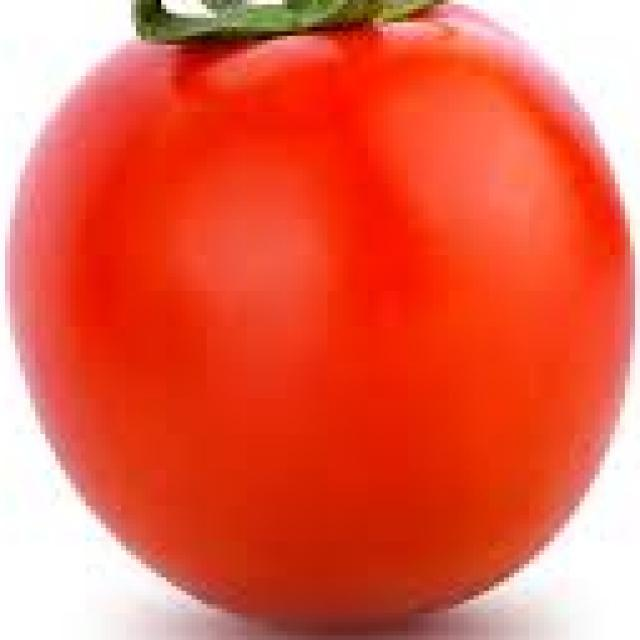Healthy: (21, 6, 640, 635)
